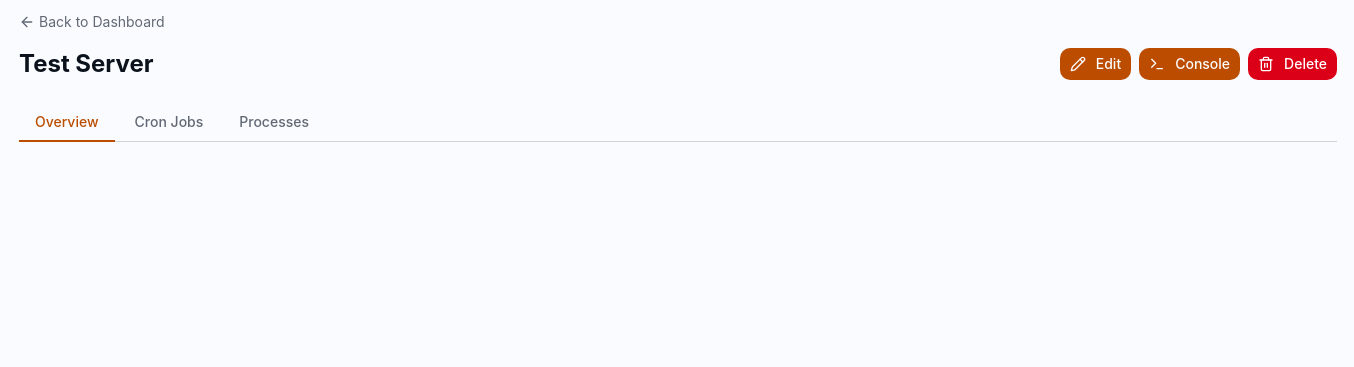
it: ServerDetail — Processes tab › filters processes by search keyword
Click the tab "Processes": (274, 123) [223,104,325,142]
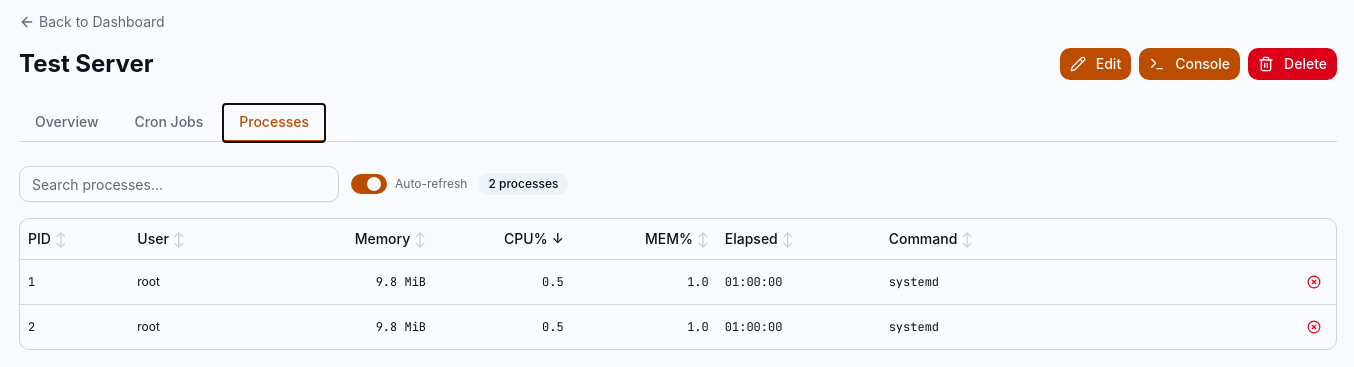
Now the table with test id "process-table" is shown, box [20,219,1336,348]
In the field with test id "process-search": (179, 184) [19,166,339,202], type "nginx"
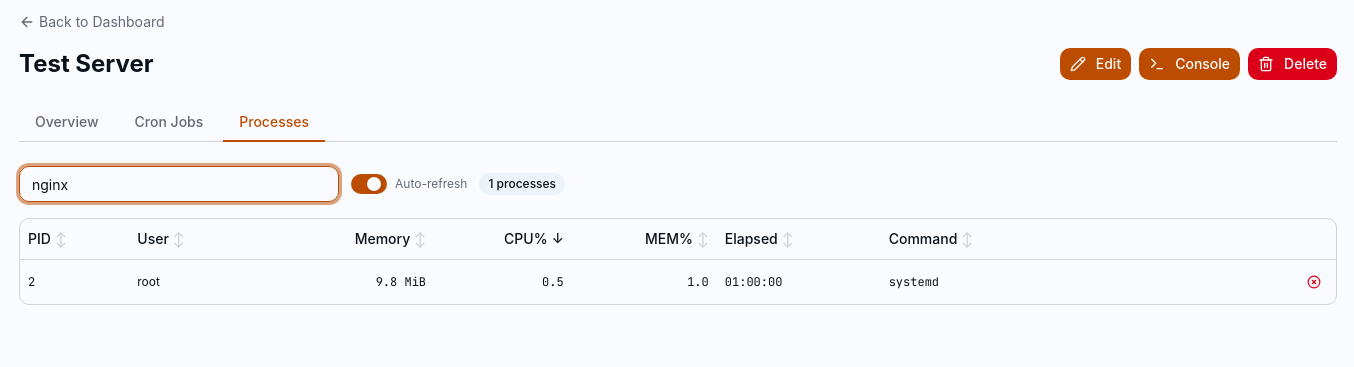
Now the row with test id "process-row-2" is shown, box [20,259,1336,304]
Now the row with test id "process-row-1" is gone
